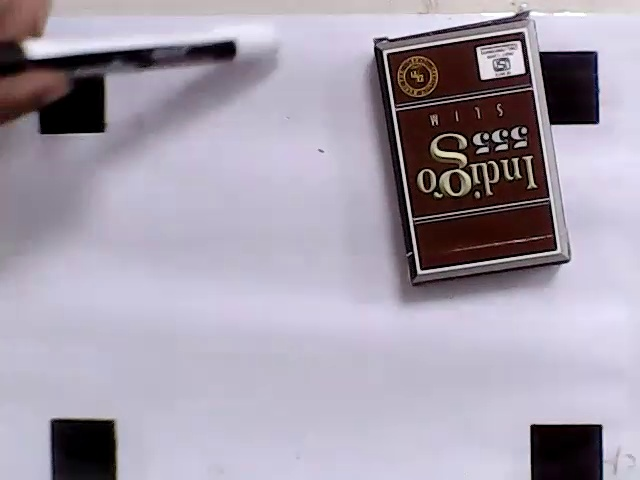BEX: (386, 29, 559, 271)
